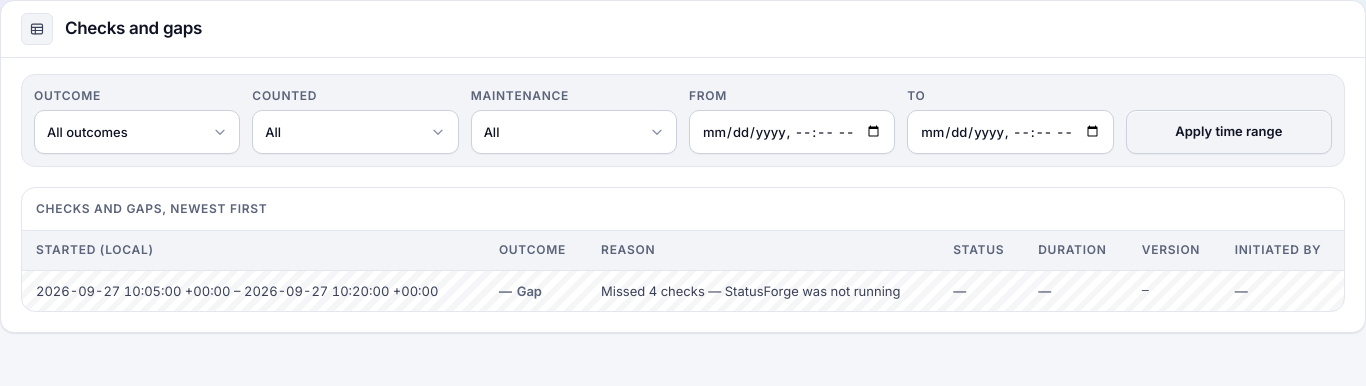
Test: explains an observation filter with no matches even when gap rows remain
Expected: the table is shown, x1=22 y1=188 x2=1344 y2=311
Select "Not counted" in the dropdown labelled "Counted": (355, 132) x1=252 y1=110 x2=459 y2=154
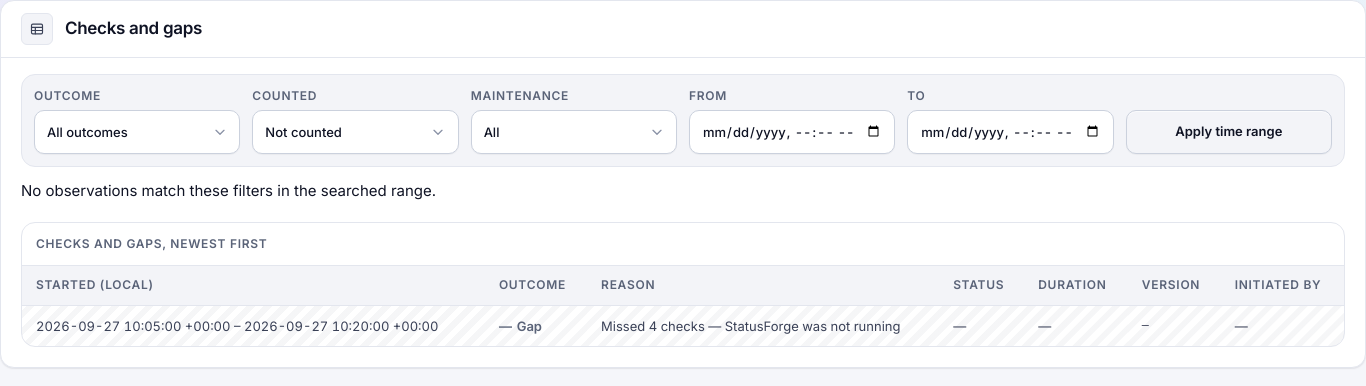
Expected: the table shows "gap", x1=517 y1=318 x2=542 y2=334
Expected: the text "No observations match these filters in the searched range." is shown, x1=21 y1=181 x2=436 y2=200
